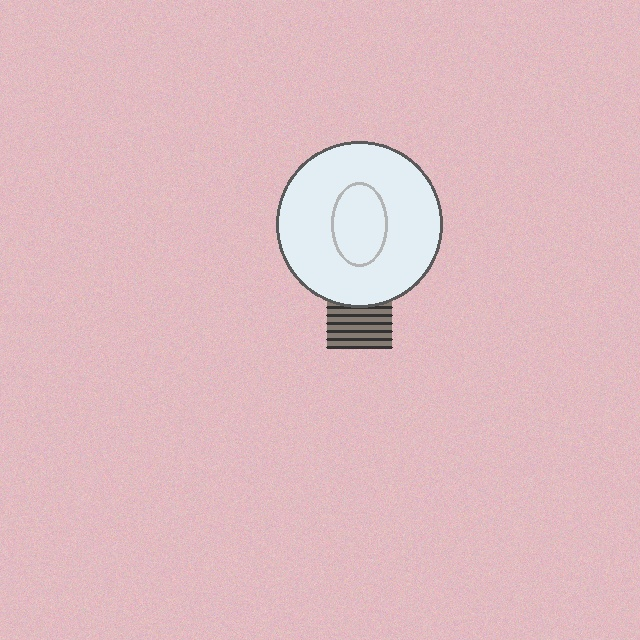bulb: (272, 137, 446, 353)
